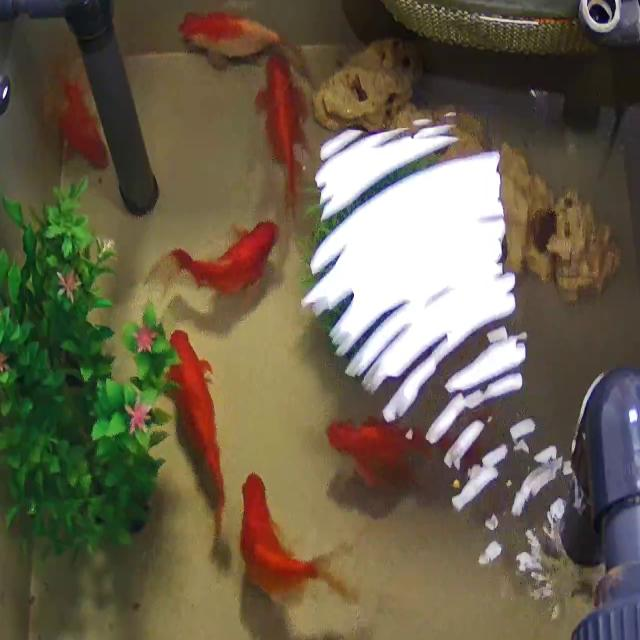fish: (241, 474, 350, 606), (162, 326, 226, 533), (164, 220, 277, 299), (254, 52, 306, 220), (330, 415, 420, 490), (178, 11, 288, 63), (56, 71, 110, 172)
